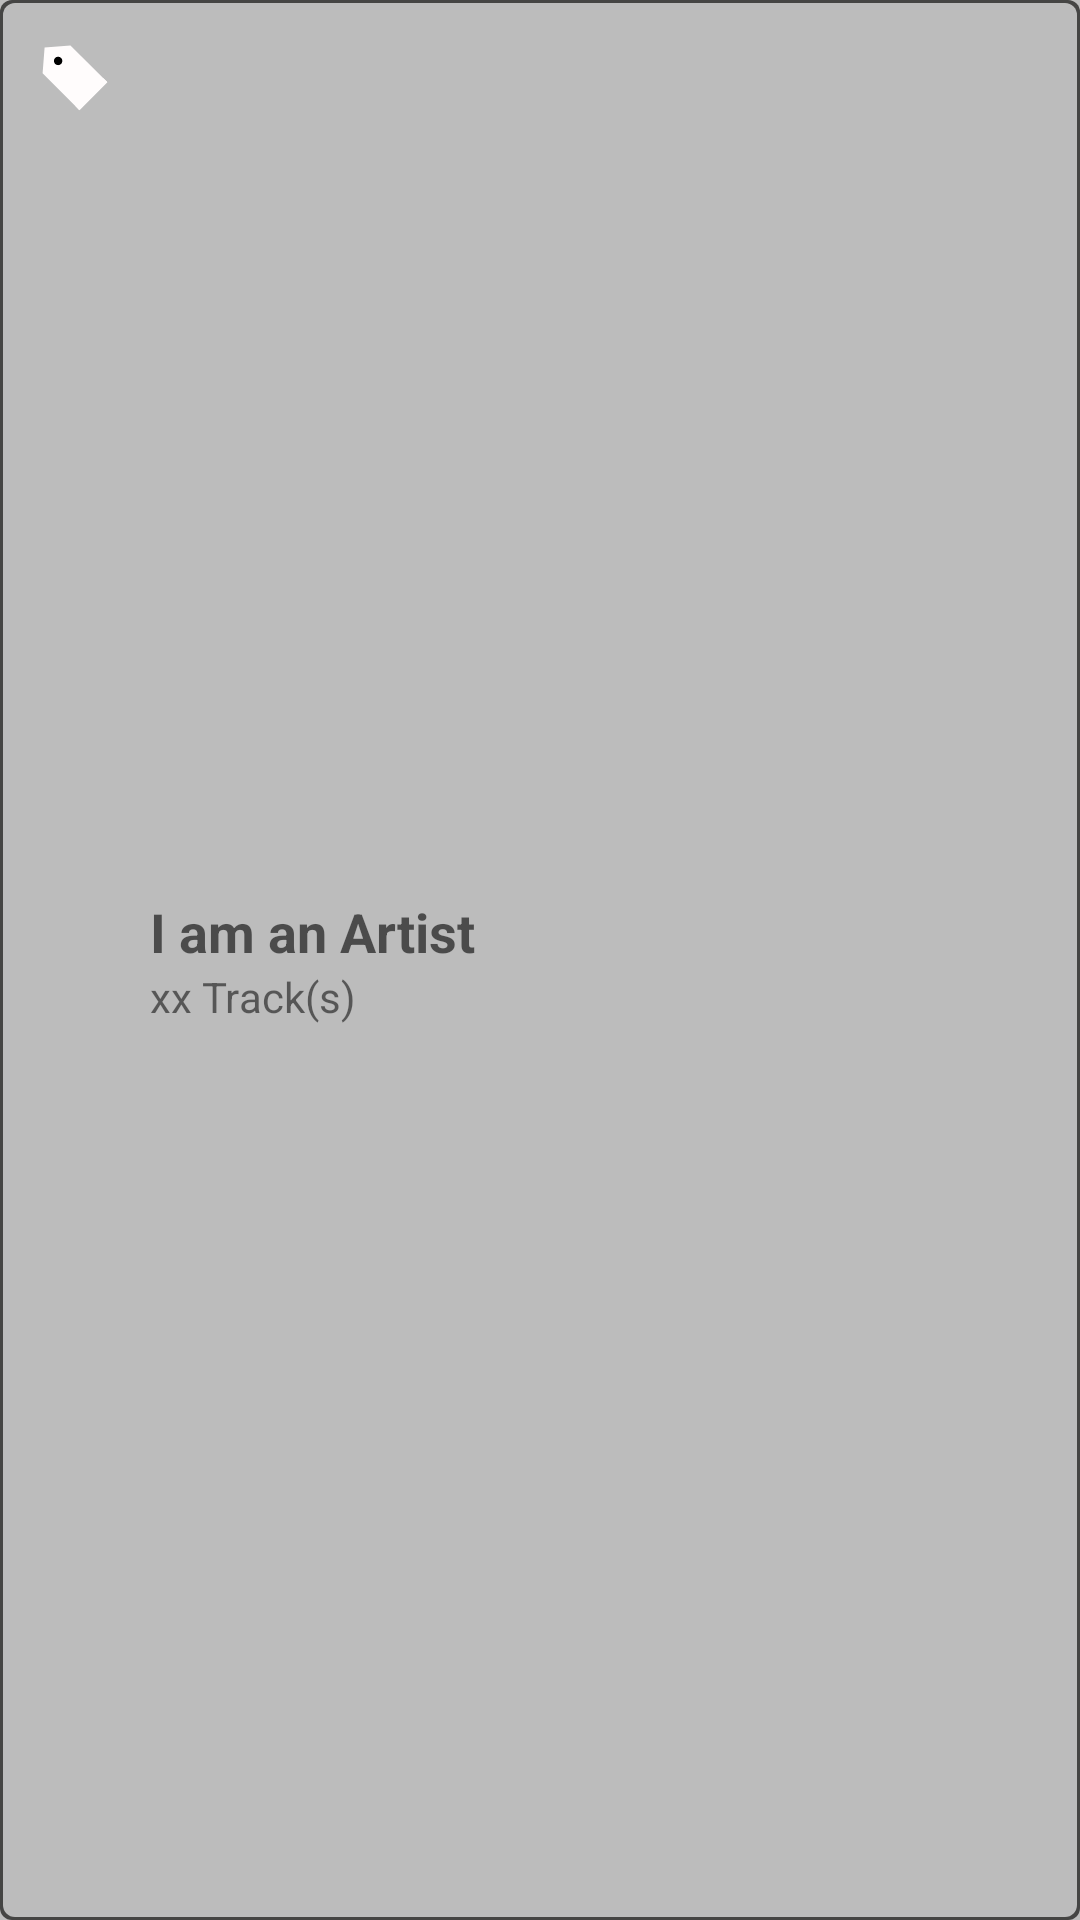

Locate icon controls on the screen. Image size 1080x1920, boxes as (x1, y1, x2, y2).
genre: (43, 45, 107, 110)
